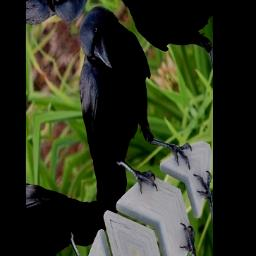Crow: (28, 0, 211, 254)
